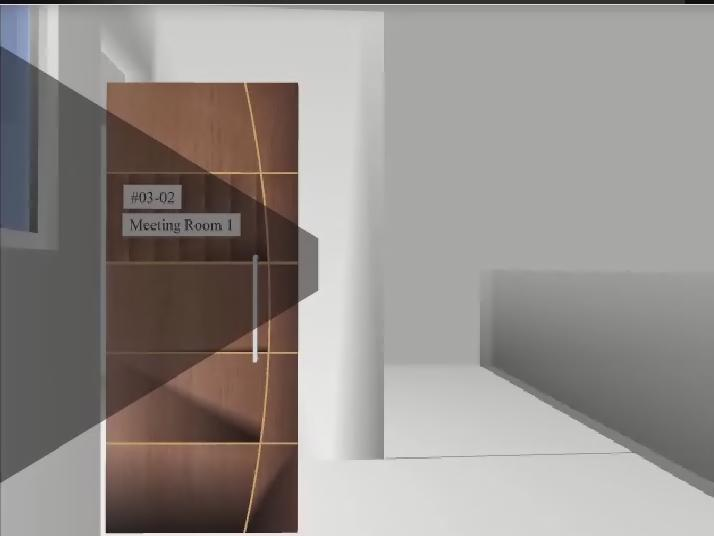door: (107, 82, 298, 532)
